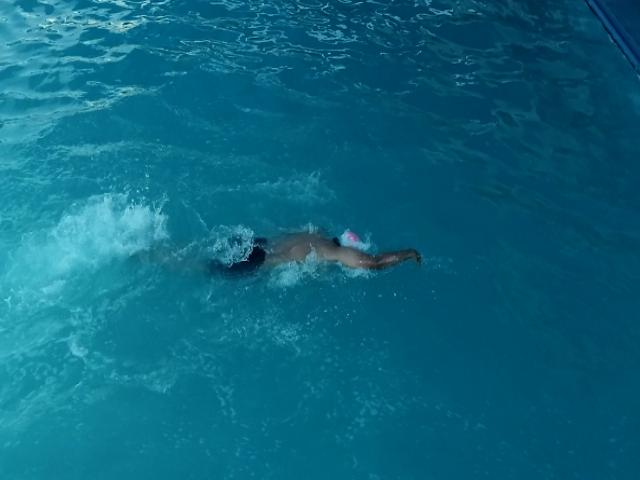swimming: (136, 229, 428, 278)
